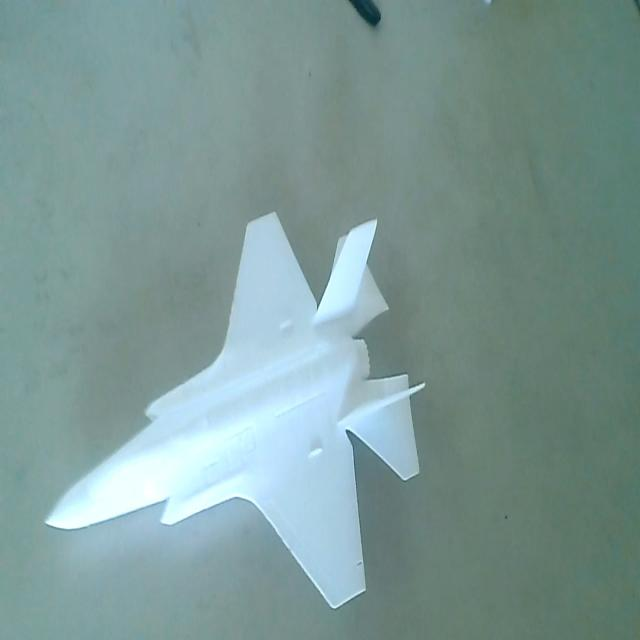Jet: (41, 208, 426, 613)
